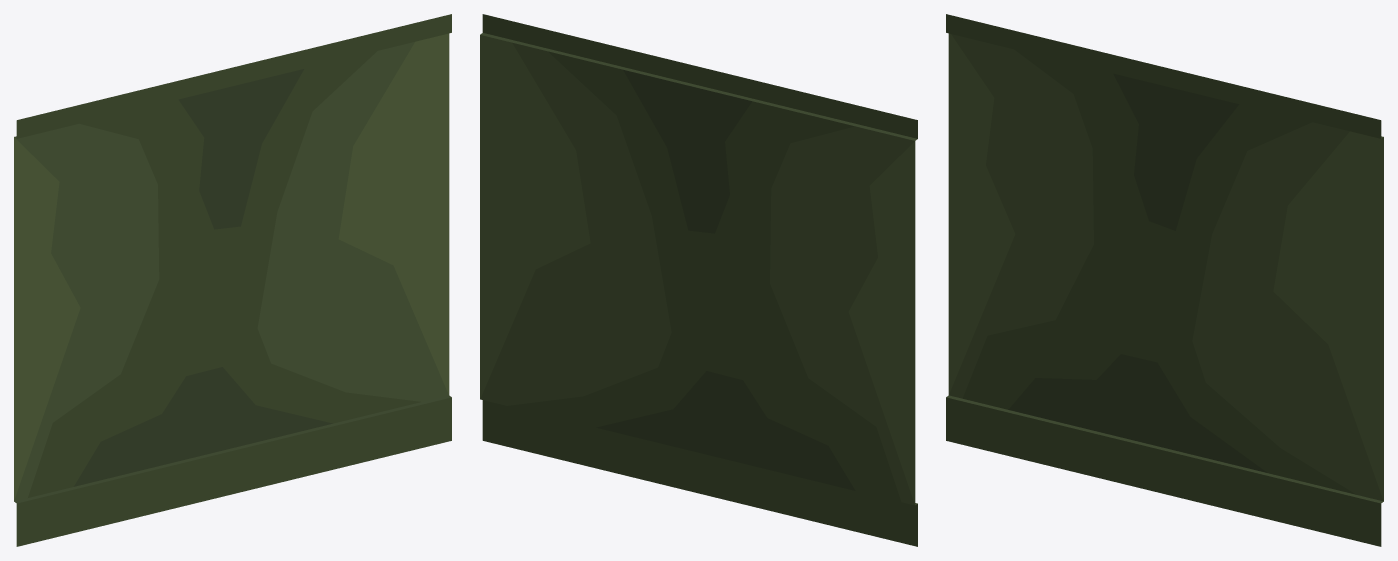
The model's file is AI_Env_Wall_Green_Stained.fbx.
3 renders of one model, left to right at view 1: azimuth 30°, elevation 25°; view 2: azimuth 150°, elevation 25°; view 3: azimuth 330°, elevation 25°, orthographic.
Parts seen in each view (by area): view 1: AI_Env_Wall_Green_Stained; view 2: AI_Env_Wall_Green_Stained; view 3: AI_Env_Wall_Green_Stained.
Part boxes in pixels (bbox=[...]): AI_Env_Wall_Green_Stained: bbox=[14, 14, 451, 546]; AI_Env_Wall_Green_Stained: bbox=[480, 14, 917, 546]; AI_Env_Wall_Green_Stained: bbox=[946, 14, 1383, 546].
Bounding box in the file's own units: 5 × 4.69 × 0.0549.
